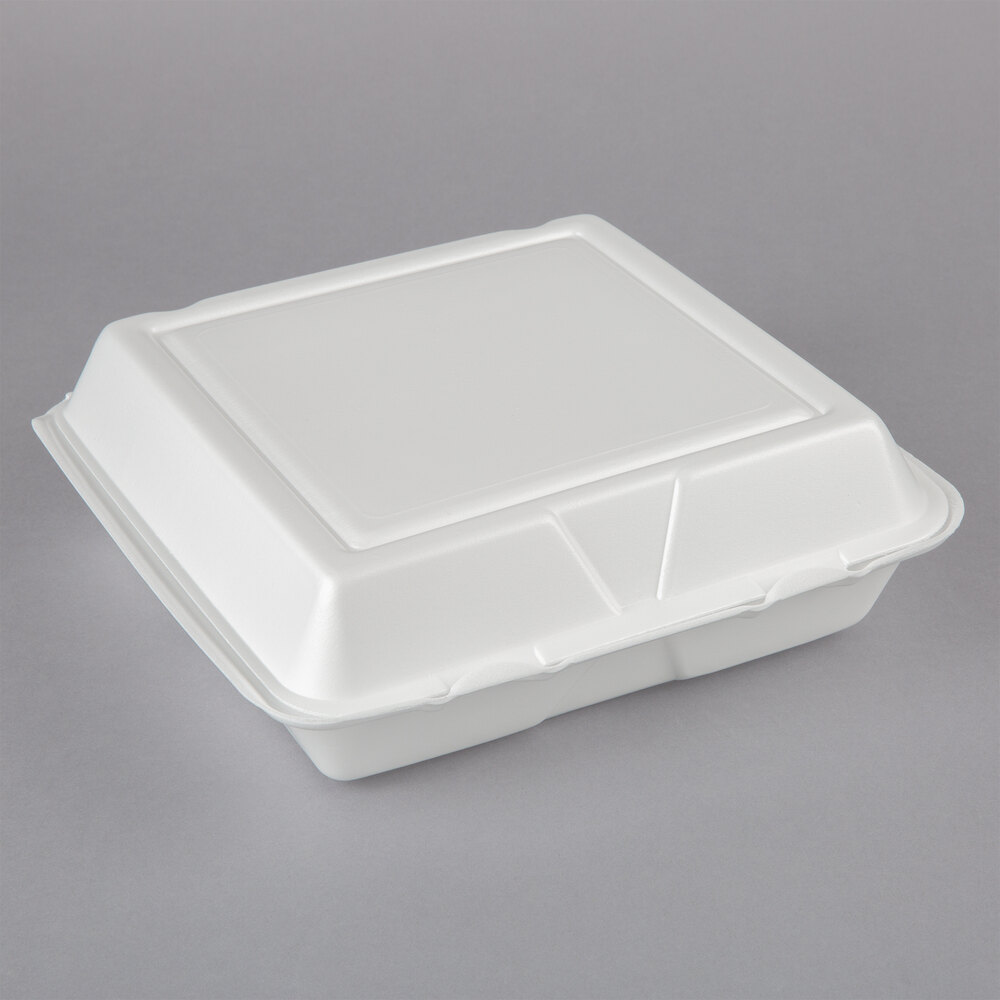styrofoam: (30, 202, 968, 791)
